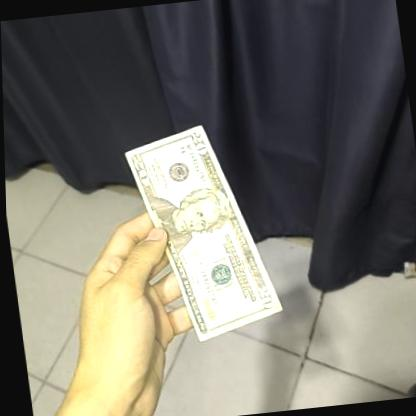twenty-front: (119, 116, 284, 347)
